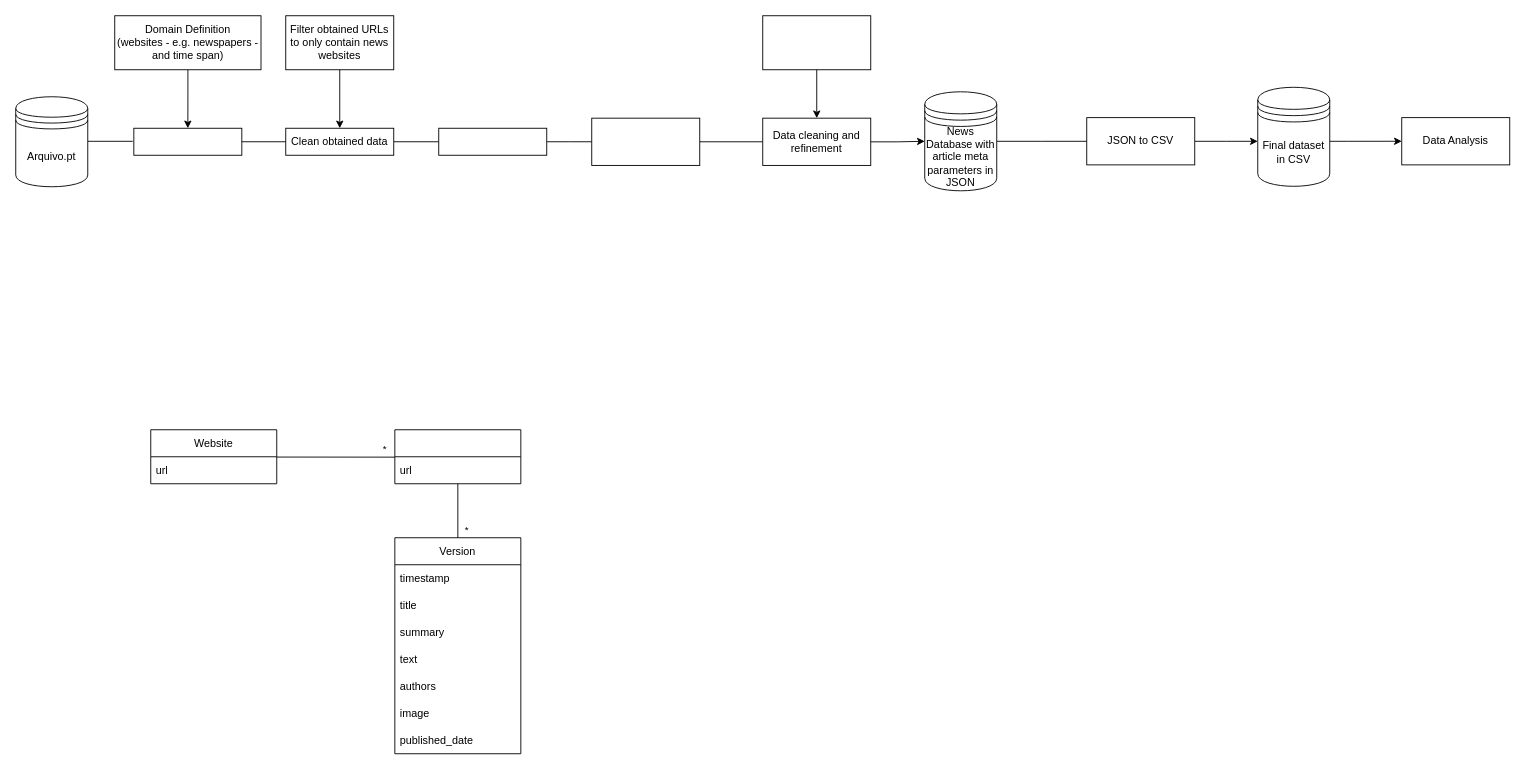
Some shapes in this 1526 by 770 pixel diagram are drawn without their labels. The box of each missing label's shape, as (x1, y1, x2, y2) in pixels:
Clean the data that was scrapped from the HTML, p.ex text embedded ads: (762, 15, 871, 70)
HTTP API request to obtain HTML: (438, 127, 547, 155)
HTTP API request to obtain news URLs: (133, 127, 242, 155)
News: (394, 429, 521, 484)
Scrapping of HTML content: (591, 117, 700, 165)
